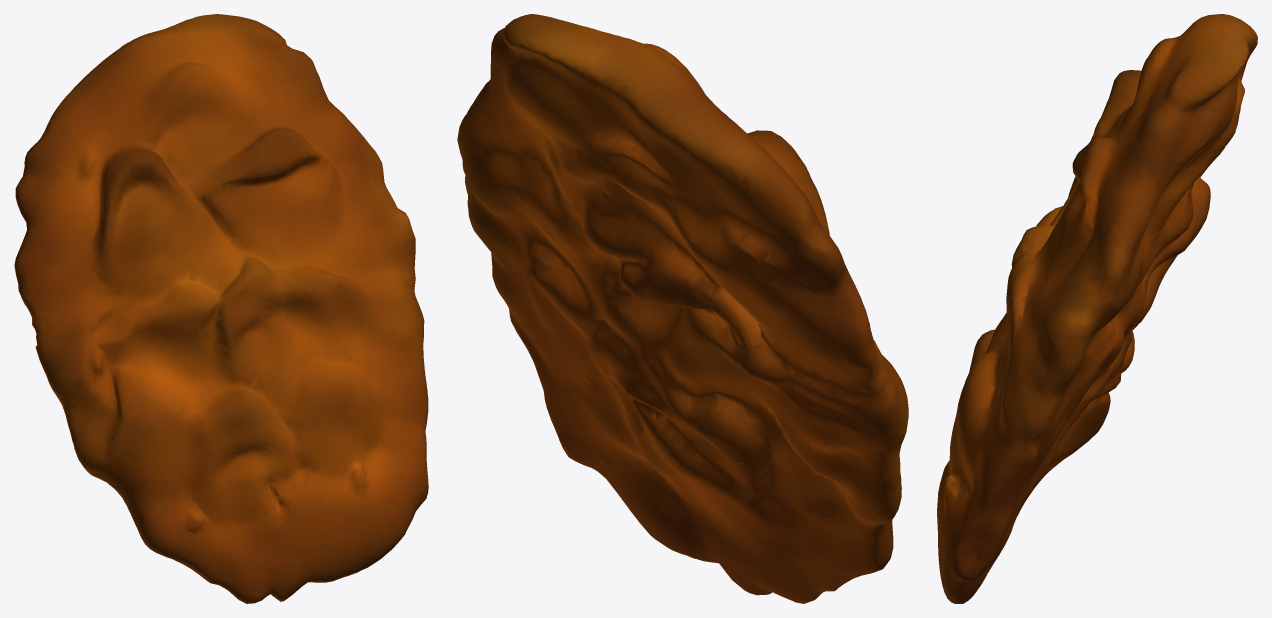
File: Lava2_lod1.fbx
3 views of the same model, side by side, from view 1: azimuth 30°, elevation 25°; view 2: azimuth 150°, elevation 25°; view 3: azimuth 270°, elevation 25° (orthographic). The views are drawn at different scales.
Parts seen in each view (by area): view 1: Layer_3; view 2: Layer_3; view 3: Layer_3.
Part boxes in pixels (bbox=[...]): Layer_3: bbox=[14, 14, 428, 603]; Layer_3: bbox=[457, 14, 908, 603]; Layer_3: bbox=[937, 14, 1257, 603].
Bounding box in the file's own units: 3.61 × 2.55 × 4.87.
